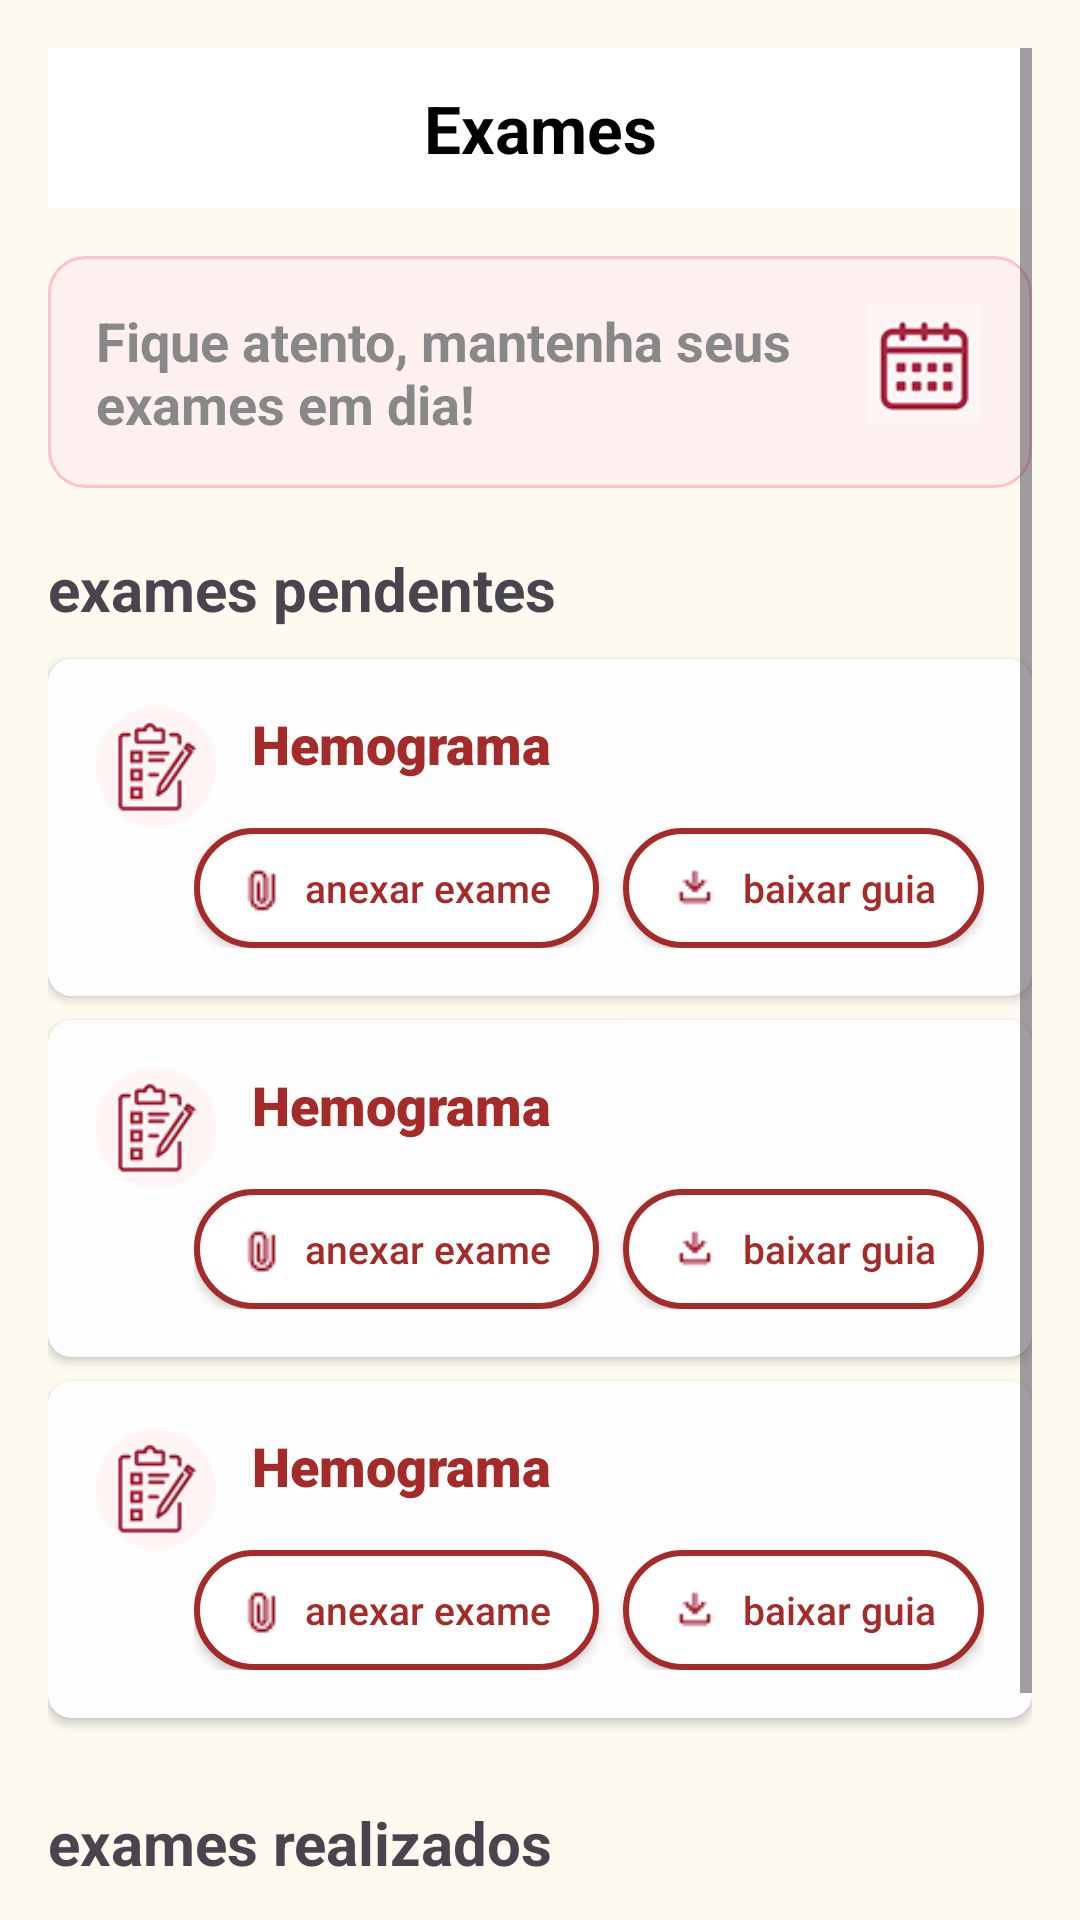

Icons on this 1080px x 1920px Android screen, each with the point to tap as [x,y]:
calendar: [924,366]
Ícone do exame: [157,767], [157,1128], [157,1489]
